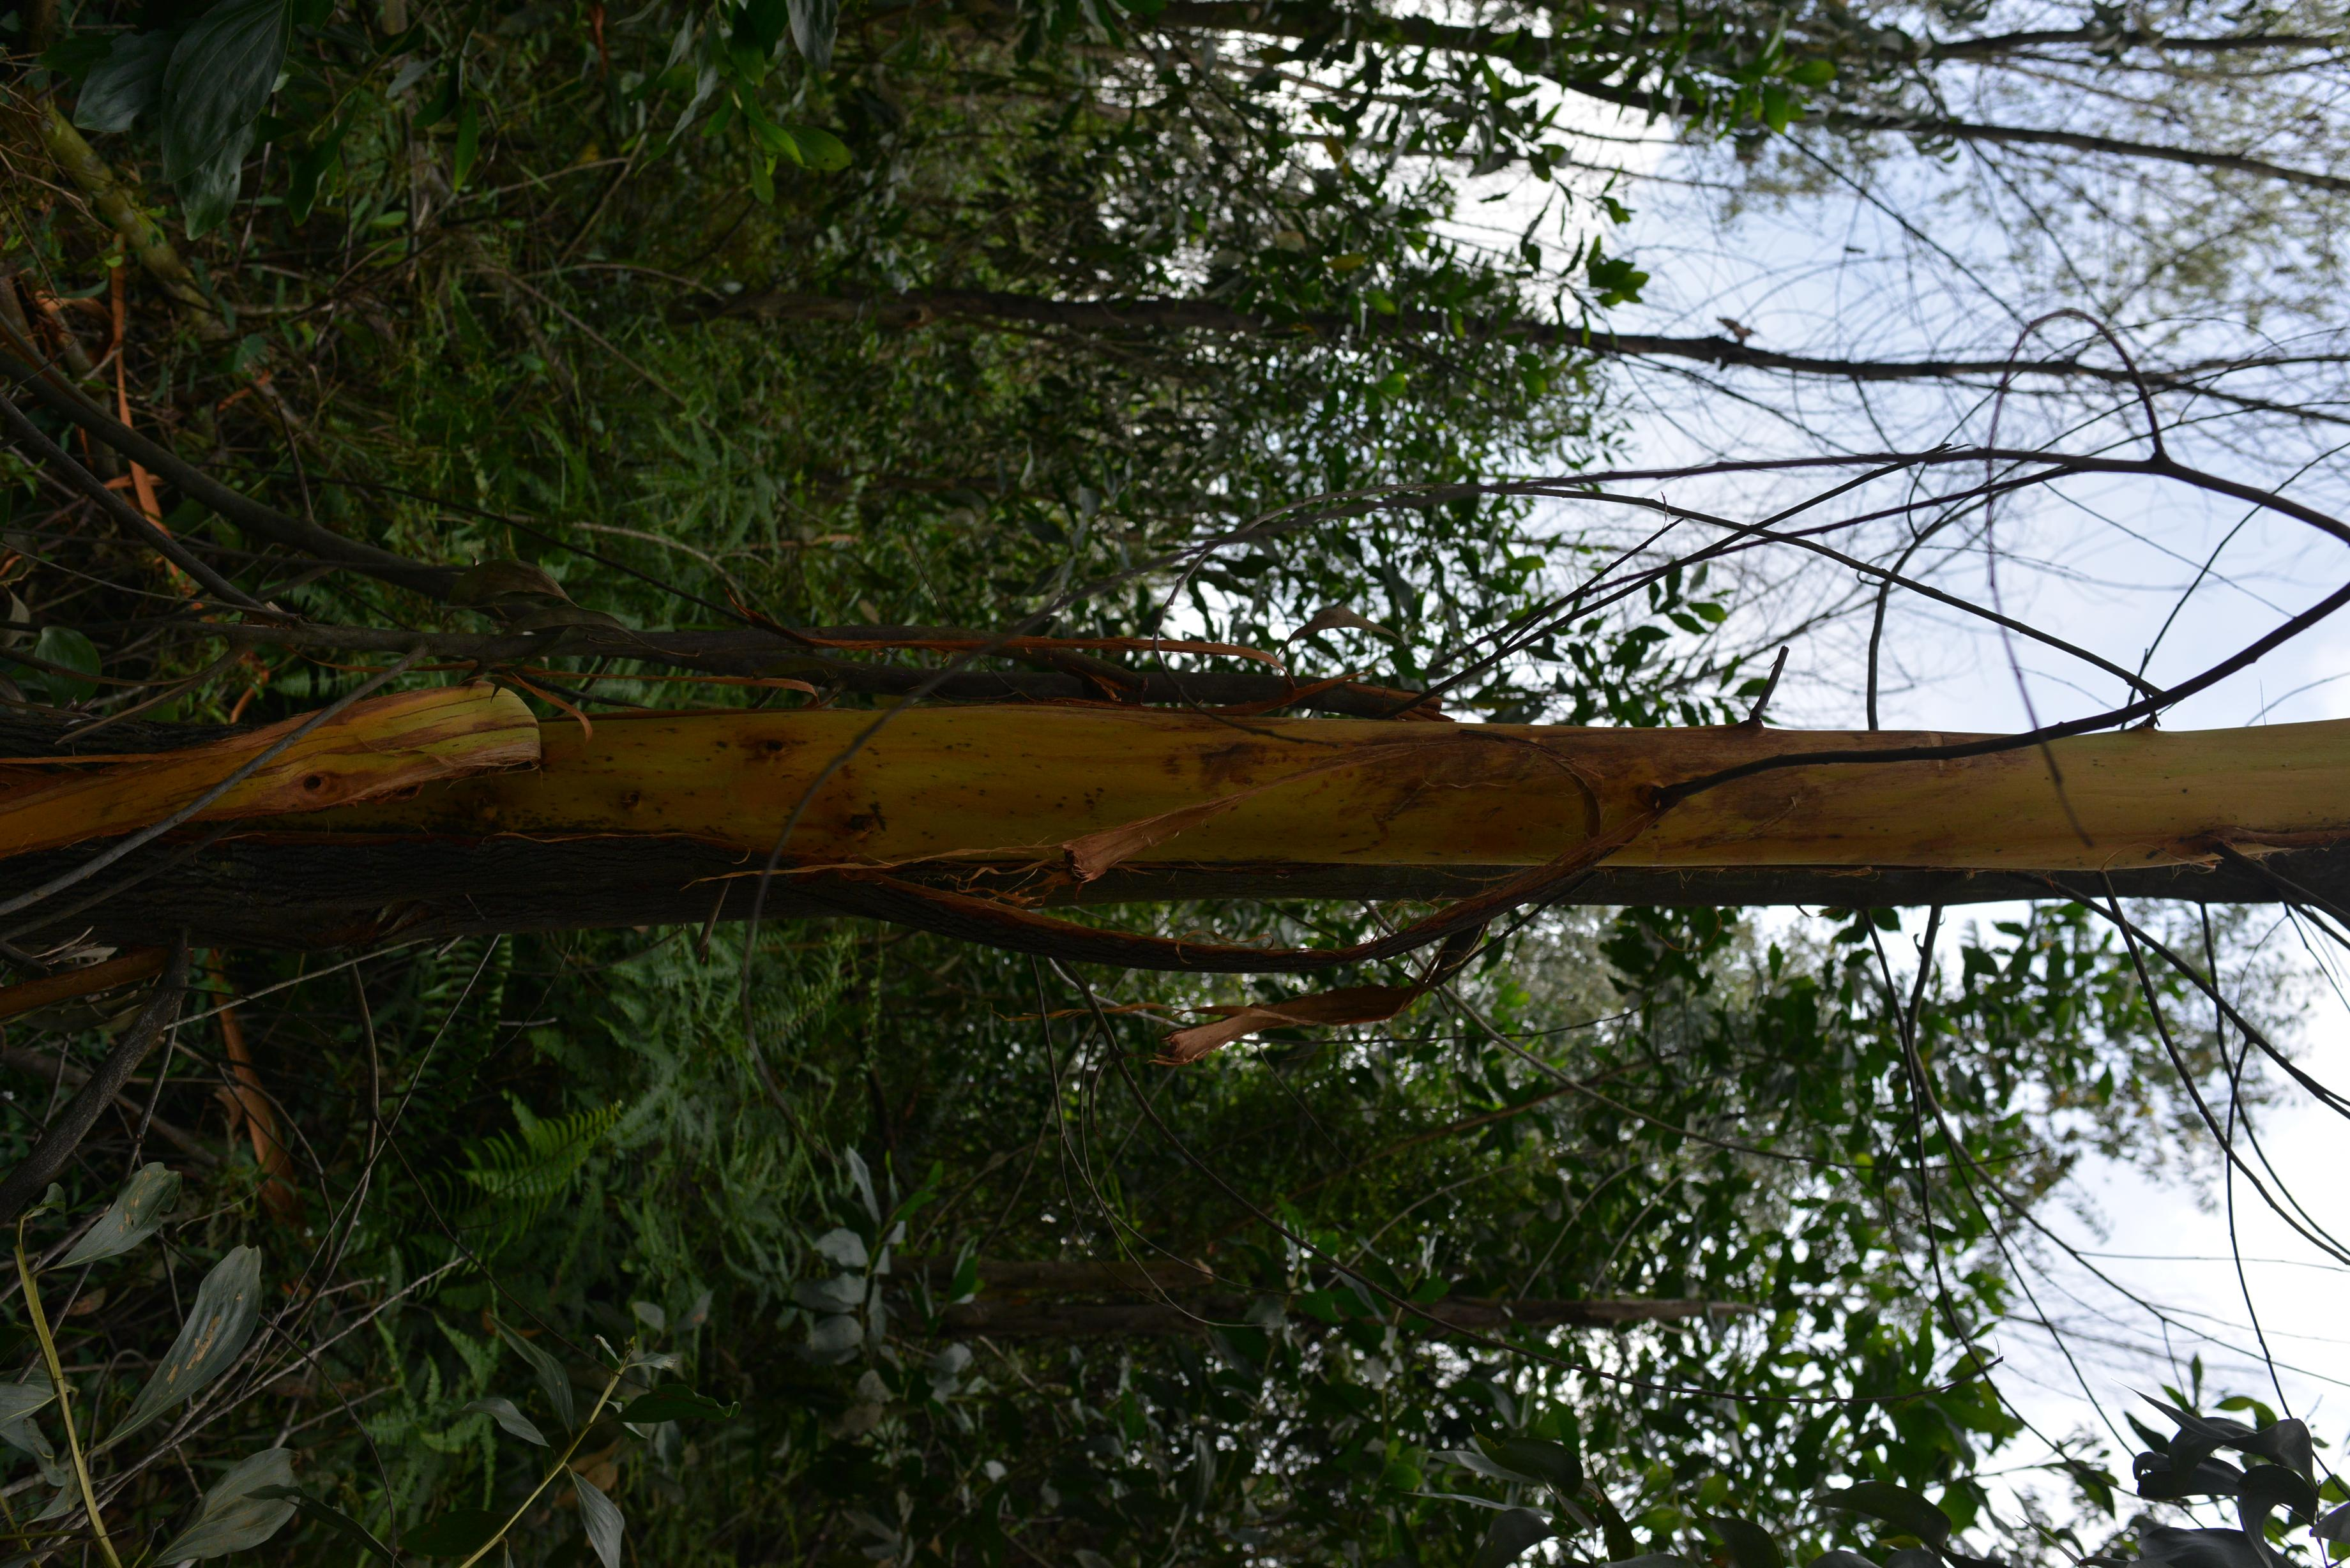Mammals Attack: (541, 684, 2350, 878)
